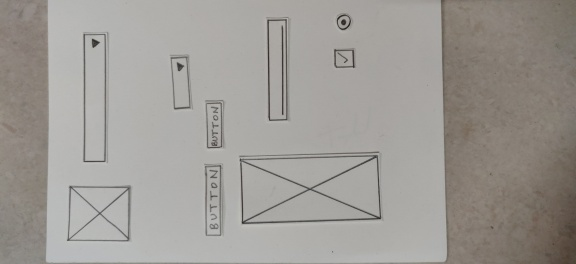button: (204, 164, 224, 237), (204, 101, 225, 149)
checkbox: (334, 46, 356, 71)
dropdown: (82, 30, 109, 163), (168, 56, 194, 111)
img: (237, 149, 384, 223), (67, 181, 129, 243)
radio: (334, 14, 353, 33)
text: (264, 17, 292, 123)
